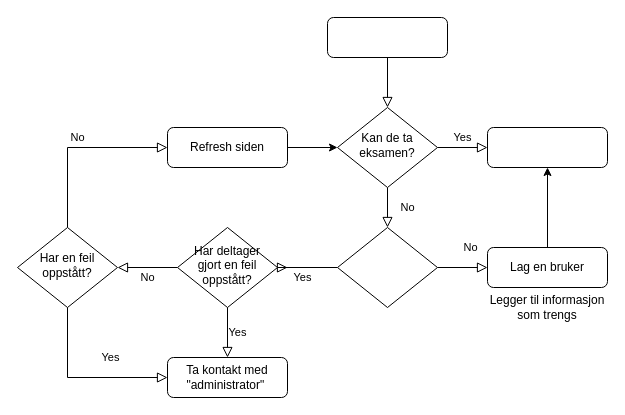
The diagram is 625 pixels wide and 415 high, and some of its shapes have lost their labels. Here are the shapes that lost their labels. From the top down, the centre of each, then its label:
At point (387, 37): "Deltager".
At point (547, 147): "De tar eksamen".
At point (387, 267): "Har de en bruker?".
